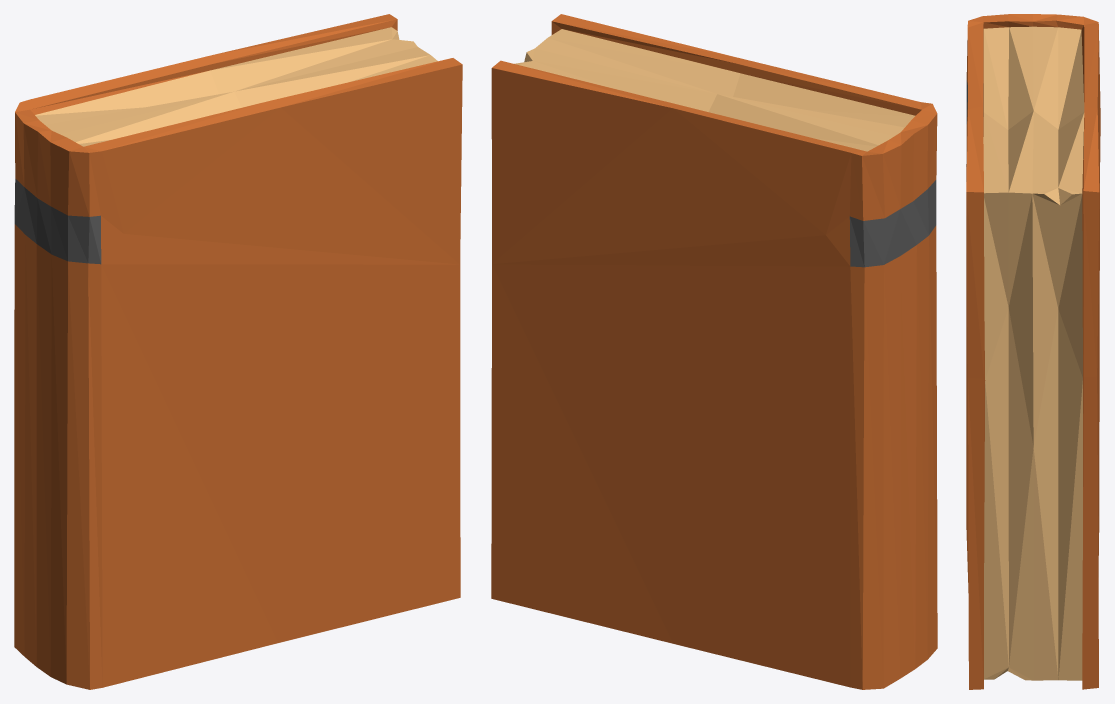
File: SFI_Book_045.fbx
3 renders of one model, left to right at view 1: azimuth 30°, elevation 25°; view 2: azimuth 150°, elevation 25°; view 3: azimuth 270°, elevation 25°, orthographic. The views are drawn at different scales.
Visible parts, largest first — view 1: SFI_Book_045; view 2: SFI_Book_045; view 3: SFI_Book_045.
Part boxes in pixels (x1,y1,x2,y2): SFI_Book_045: (14,14,462,689); SFI_Book_045: (491,14,937,689); SFI_Book_045: (966,14,1100,689).
Bounding box in the file's own units: 32.21 × 42.32 × 10.29.
